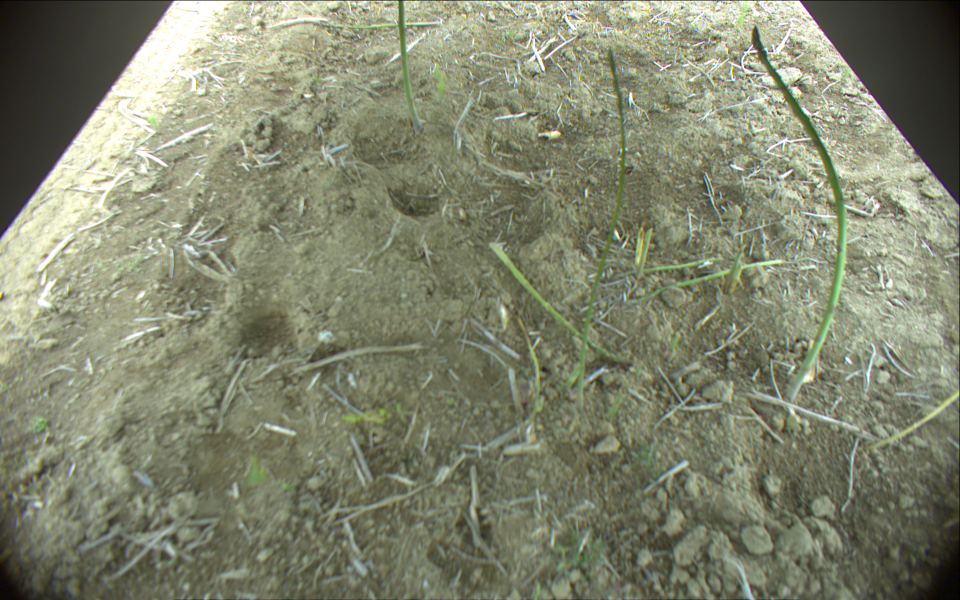aspa: (749, 24, 850, 402), (578, 47, 631, 406), (489, 241, 630, 364), (633, 257, 789, 303), (861, 390, 960, 450), (395, 1, 422, 129), (515, 320, 547, 420), (271, 19, 442, 34), (620, 256, 712, 280), (724, 245, 747, 294)
